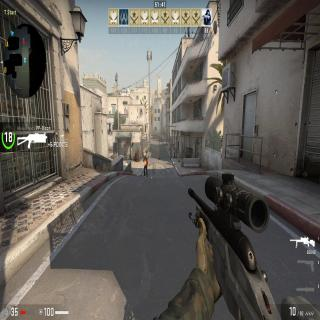T-Body: (142, 155, 149, 178)
T-Head: (144, 154, 146, 158)
